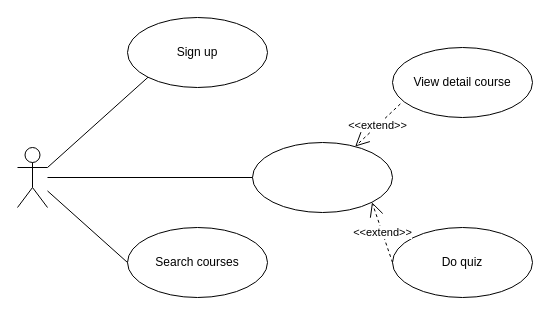
Image size: 550x315. Some labels were removed from this diagram. The shapes that lost their labels are listed below. From the top down, each one's box as (x1, y1, x2, y2) in pixels, then its label:
(16, 146, 48, 208): User
(252, 142, 392, 212): Sign in
